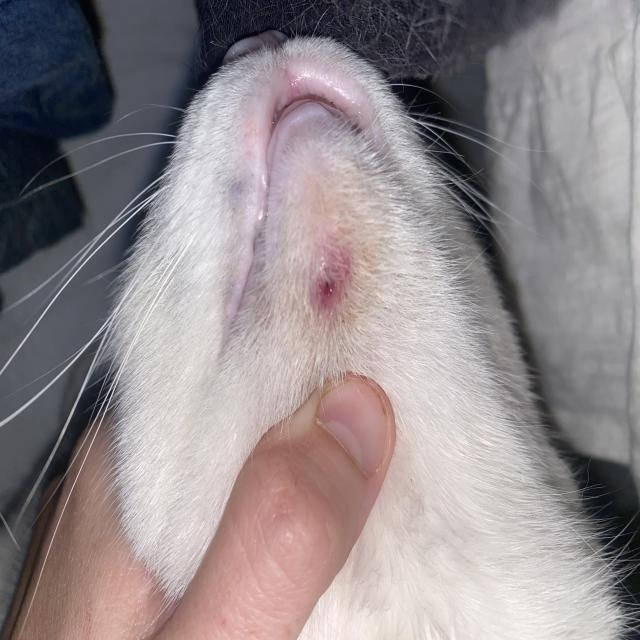cat-acne: (303, 237, 360, 321)
